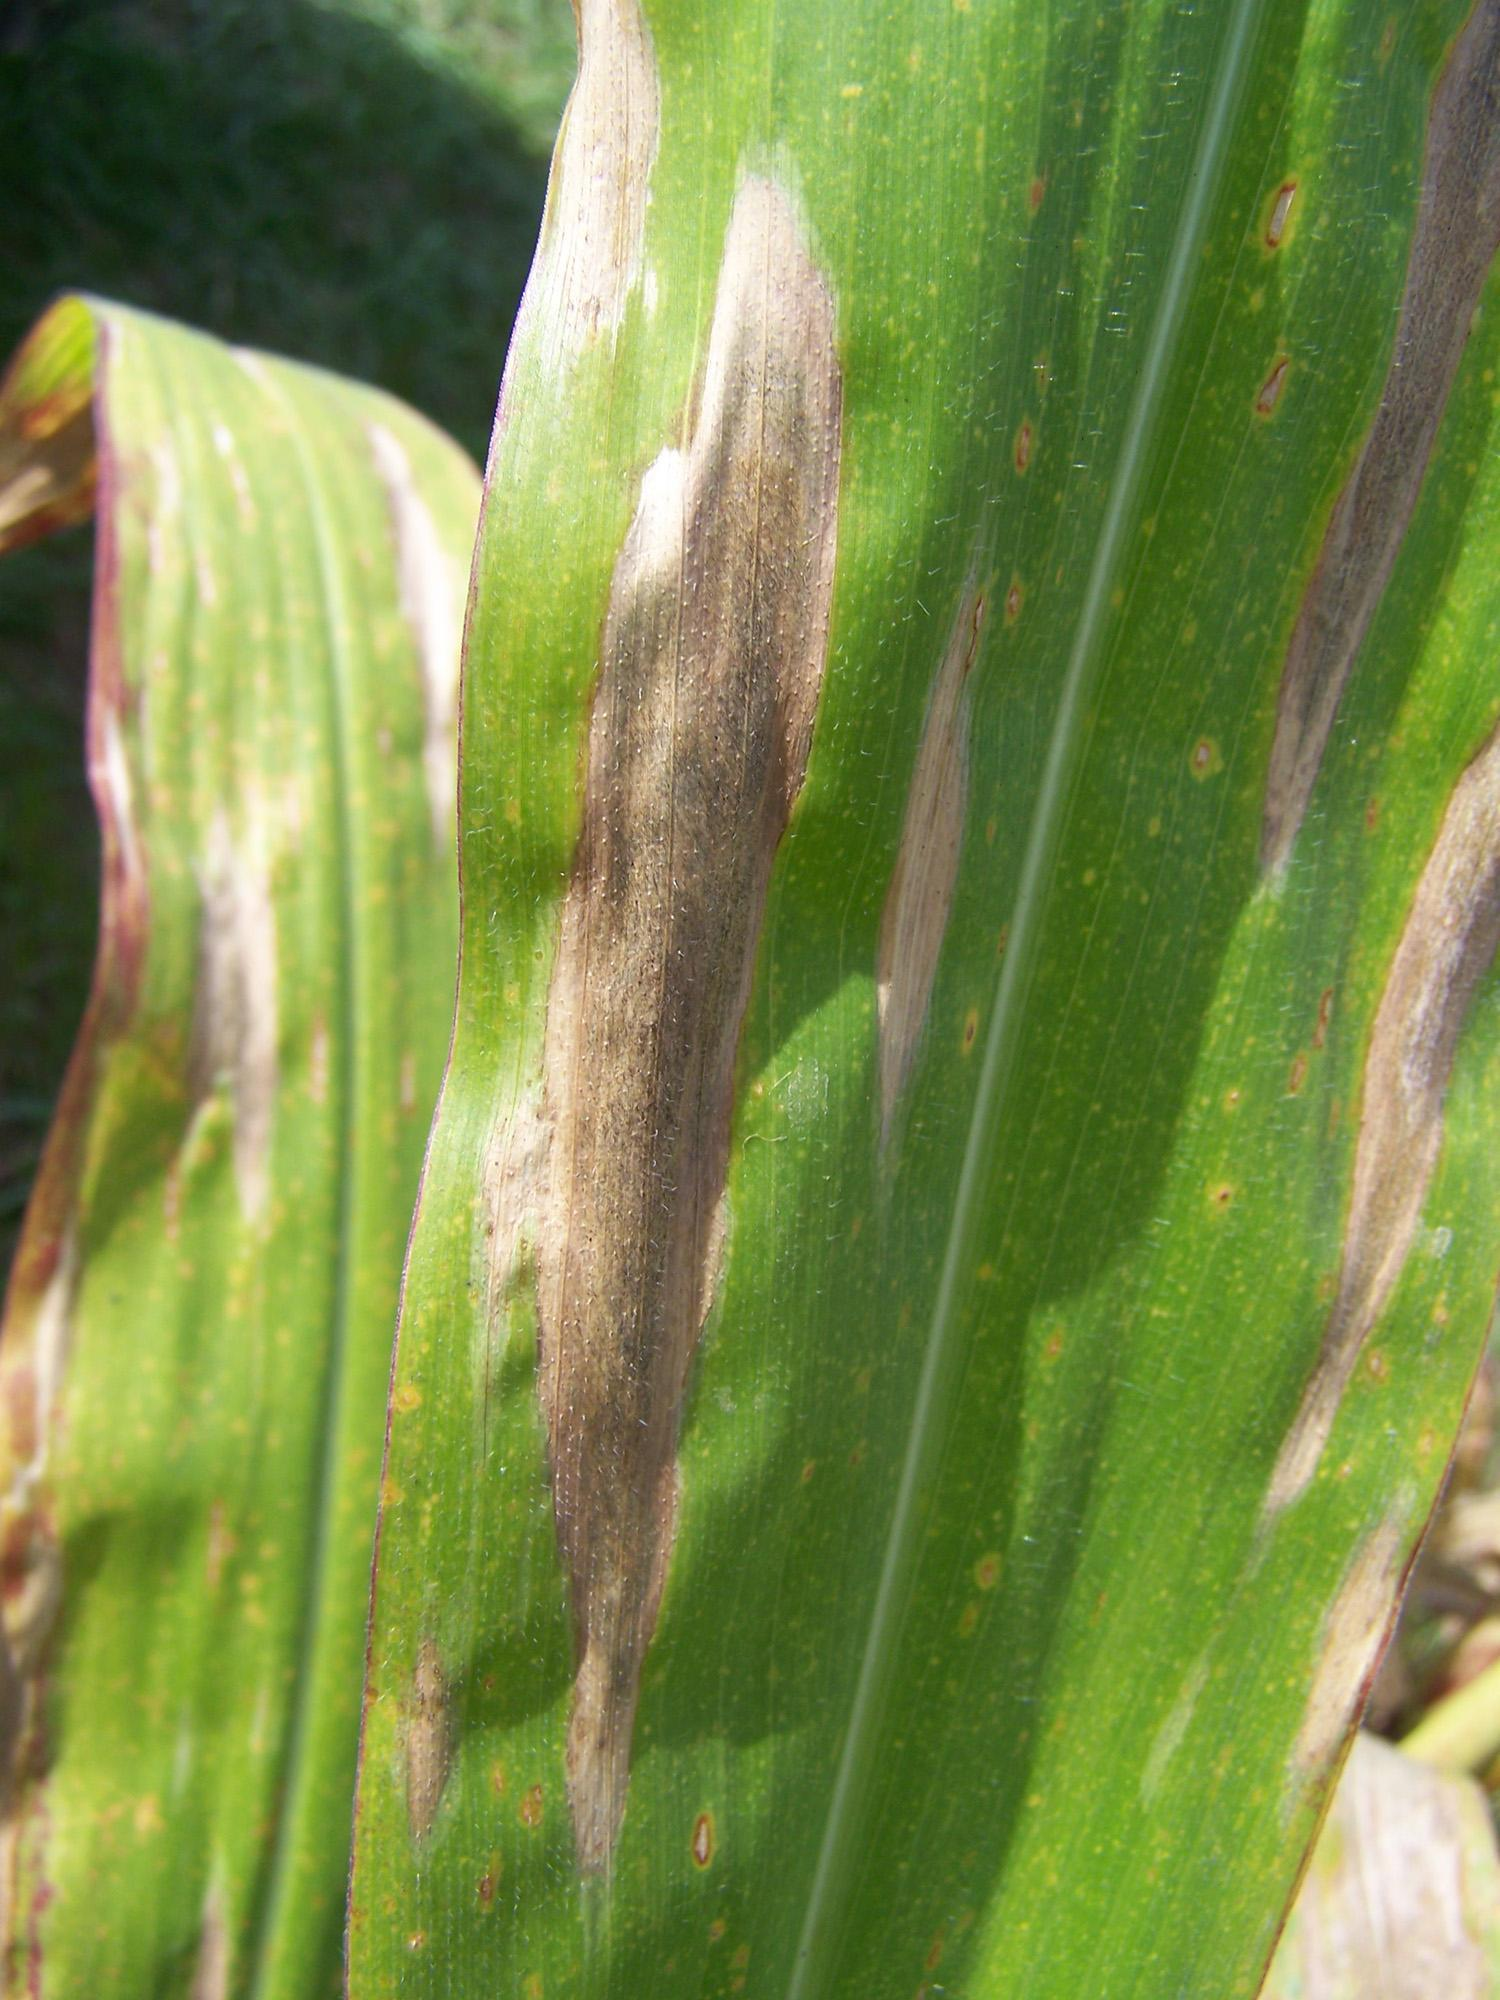Corn_Blight: (422, 20, 1026, 2000), (1172, 20, 1491, 1972), (13, 183, 348, 1972)
